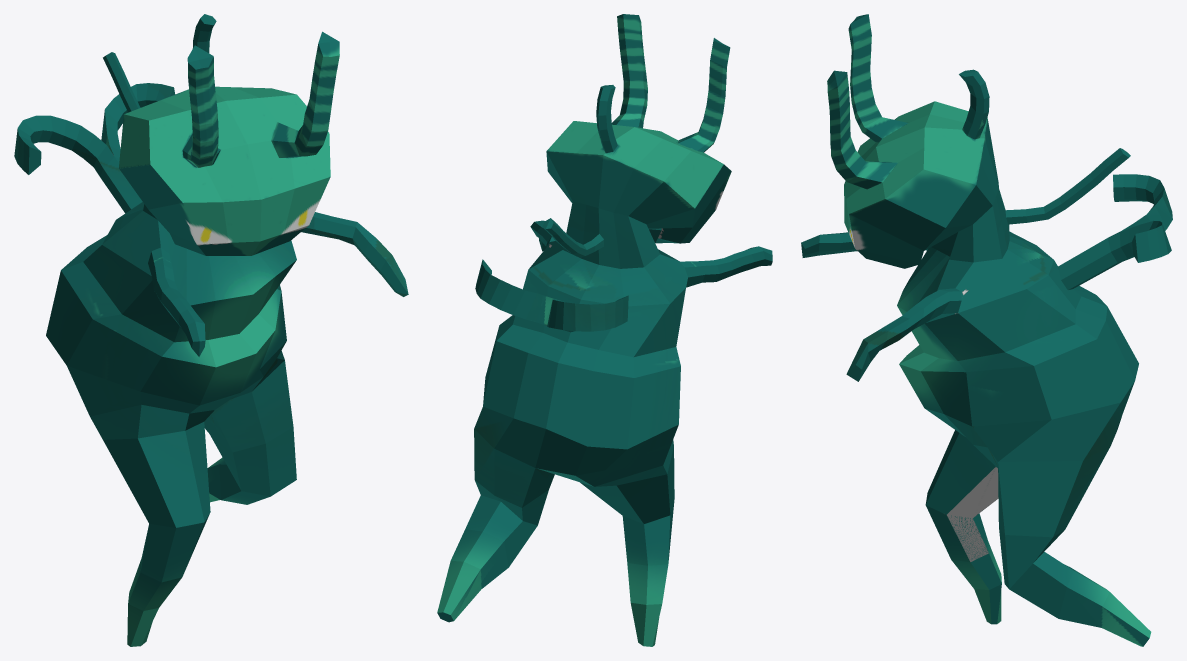
File: monstruo1_caminar_105.obj
The picture shows the model from 3 angles, left to right: view 1: azimuth 30°, elevation 25°; view 2: azimuth 150°, elevation 25°; view 3: azimuth 270°, elevation 25°; orthographic projection. The views are drawn at different scales.
Visible parts, largest first — view 1: Monstruo_basico; view 2: Monstruo_basico; view 3: Monstruo_basico.
Boxes of the visible parts, x1=… form: Monstruo_basico: x1=14, y1=14, x2=408, y2=646; Monstruo_basico: x1=437, y1=14, x2=772, y2=646; Monstruo_basico: x1=801, y1=14, x2=1172, y2=646.
Bounding box in the file's own units: 0.3968 × 0.9889 × 0.5522.
